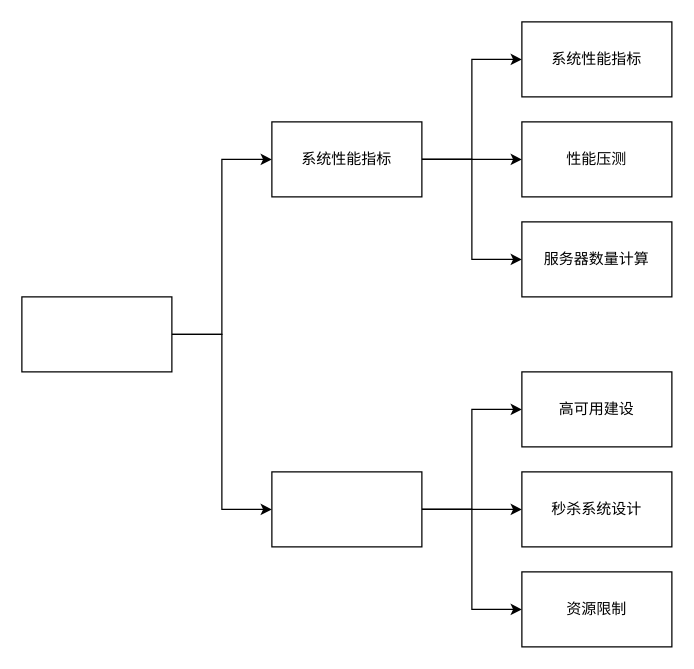
Image size: 694x669. Some labels were removed from this diagram. Here are the shapes that lost their labels. From the top down, the centre of each, then its label:
[96,334]: 高并发
[346,509]: 高并发系统
